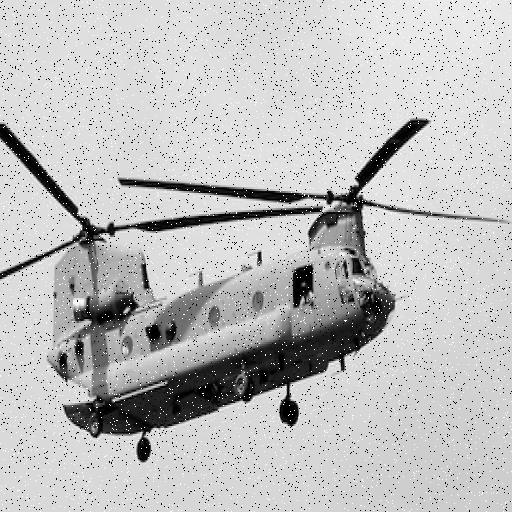helicopter: (1, 120, 512, 425)
